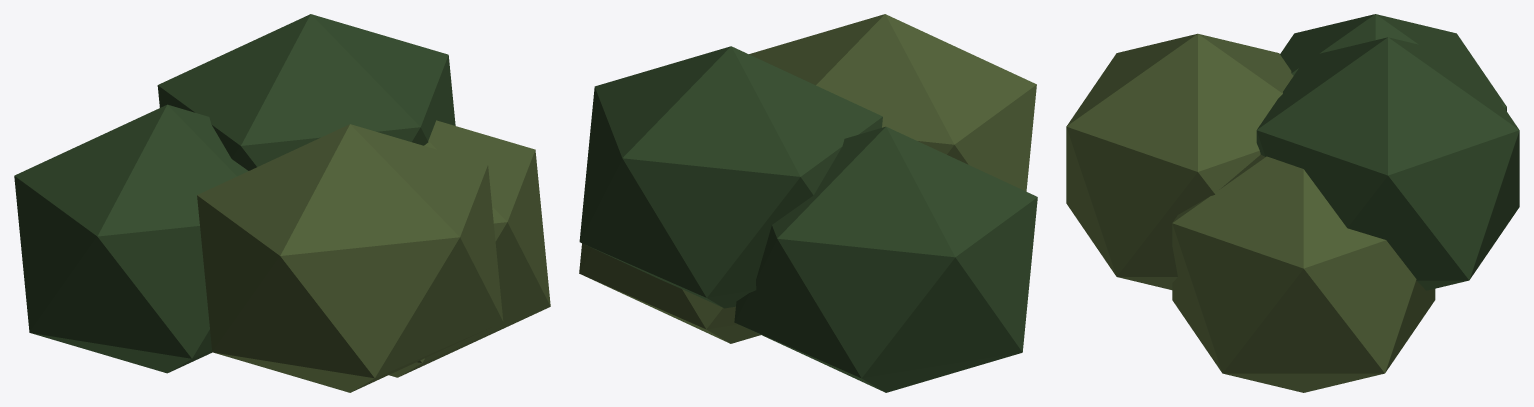
Rendered from SM_ENV_Shrub_01_Moss.glb.
3 views of the same model, side by side, from view 1: azimuth 30°, elevation 25°; view 2: azimuth 150°, elevation 25°; view 3: azimuth 270°, elevation 25° (orthographic). The views are drawn at different scales.
Parts seen in each view (by area): view 1: SM_ENV_Shrub_01_Moss; view 2: SM_ENV_Shrub_01_Moss; view 3: SM_ENV_Shrub_01_Moss.
Boxes of the visible parts, box(x1,y1,x2,y2) form: SM_ENV_Shrub_01_Moss: box(14, 14, 550, 392); SM_ENV_Shrub_01_Moss: box(579, 14, 1037, 392); SM_ENV_Shrub_01_Moss: box(1066, 14, 1519, 392).
Bounding box in the file's own units: 1.1 × 0.765 × 0.9382.
